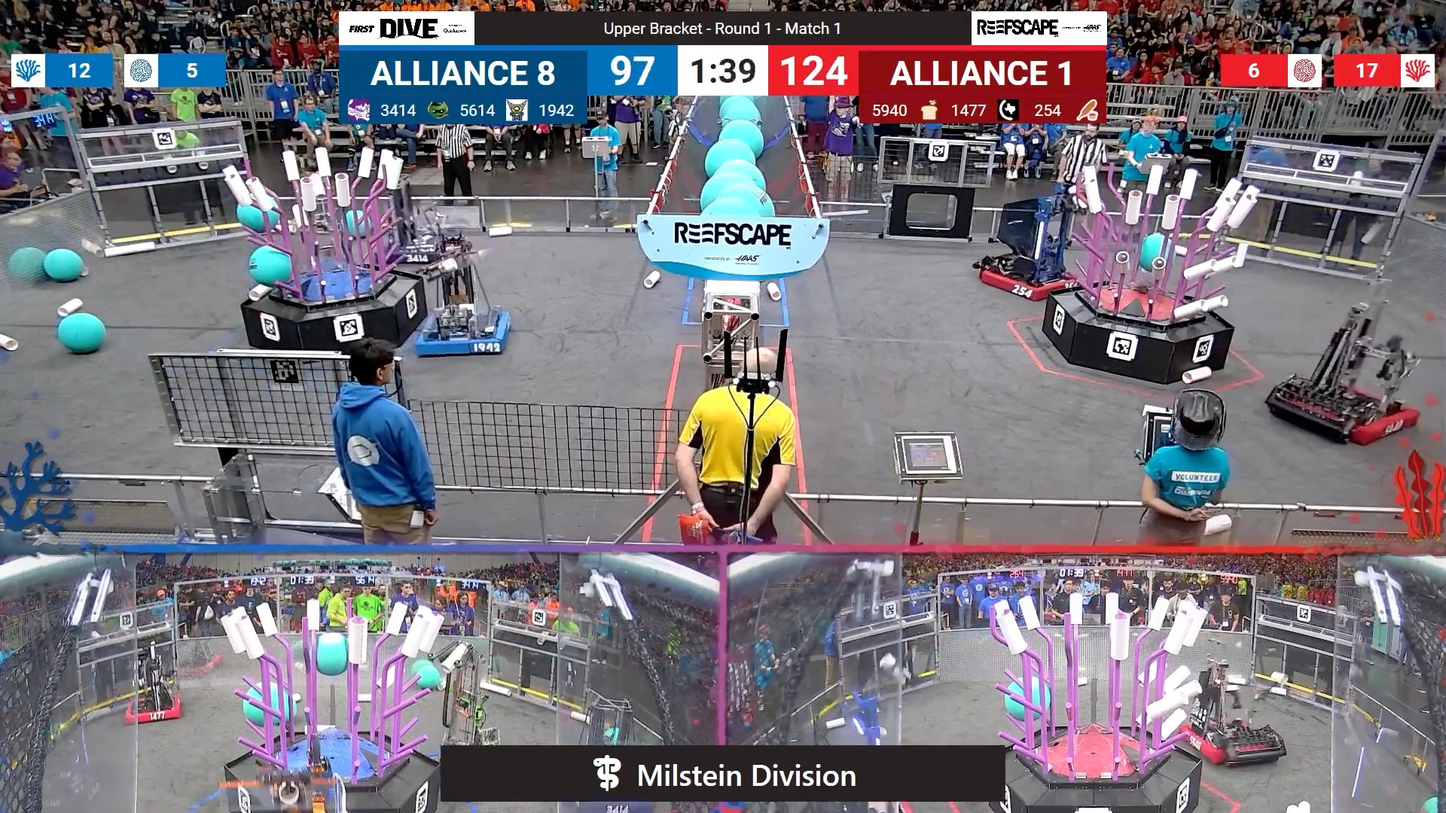bumpers: (1258, 376, 1419, 448), (1164, 715, 1283, 770), (413, 303, 516, 361), (971, 262, 1088, 303), (389, 236, 486, 275), (120, 690, 193, 729)
